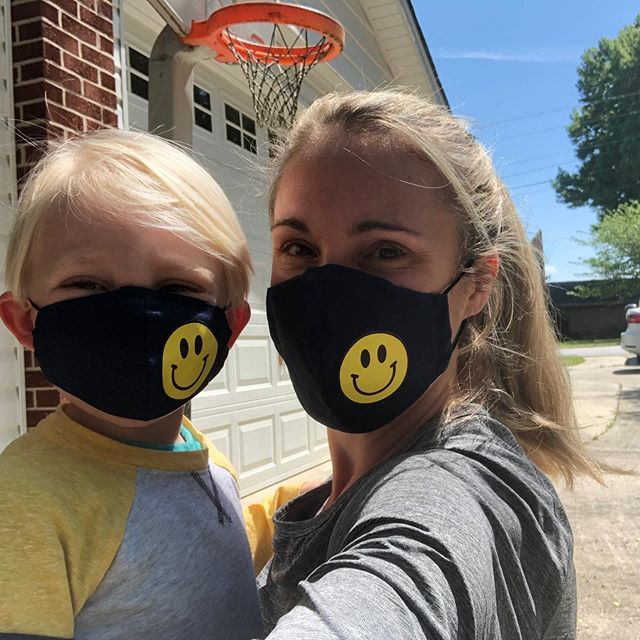homemade: (259, 269, 470, 432), (25, 292, 238, 411)
